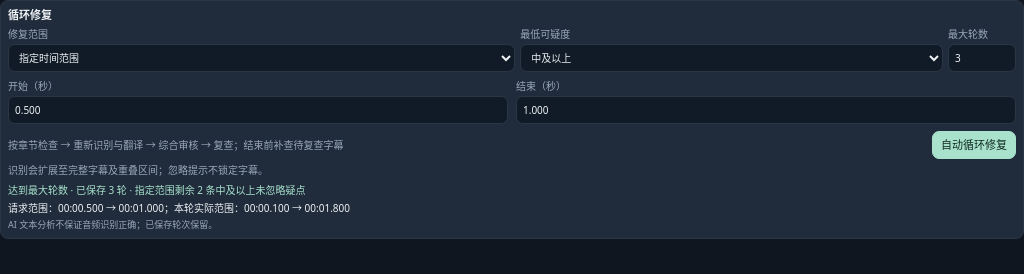
Scenario: bounded repair controls › rejects reversed/out-of-media ranges, shows requested/effective scope and scope-only cap count
Expected: the message shows "指定范围剩余 2 条中及以上", [8,183,306,197]
Expected: the message shows "00:00.500 → 00:01.000", [58,201,164,215]
Replace the text in the field named "自动修复结束（秒）" with "0.1" at [766, 110], box [516,96,1016,124]
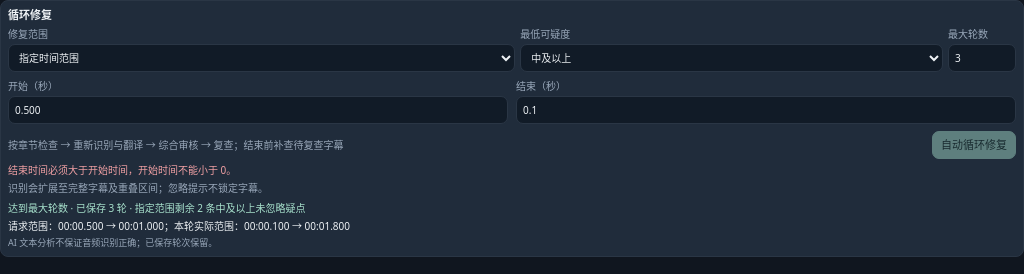
Now the message "结束时间必须大于开始时间，开始时间不能小于 0。" is shown, box [8,163,236,177]
Replace the text in the field named "自动修复结束（秒）" with "5" at [766, 110], box [516,96,1016,124]
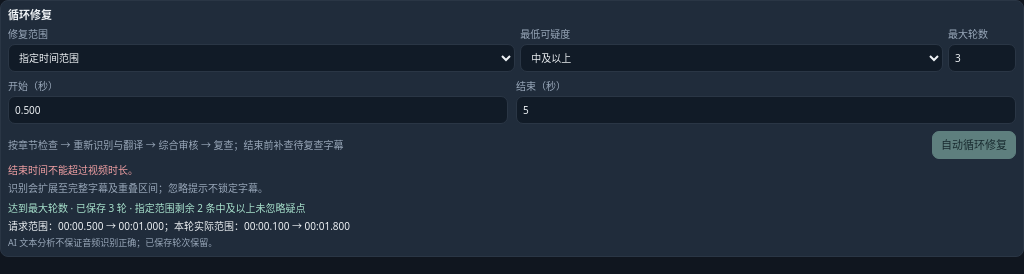
Now the message "结束时间不能超过视频时长。" is shown, box [8,163,138,177]
